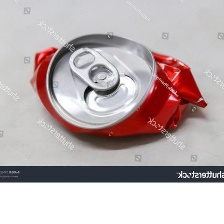can: (23, 31, 213, 140)
